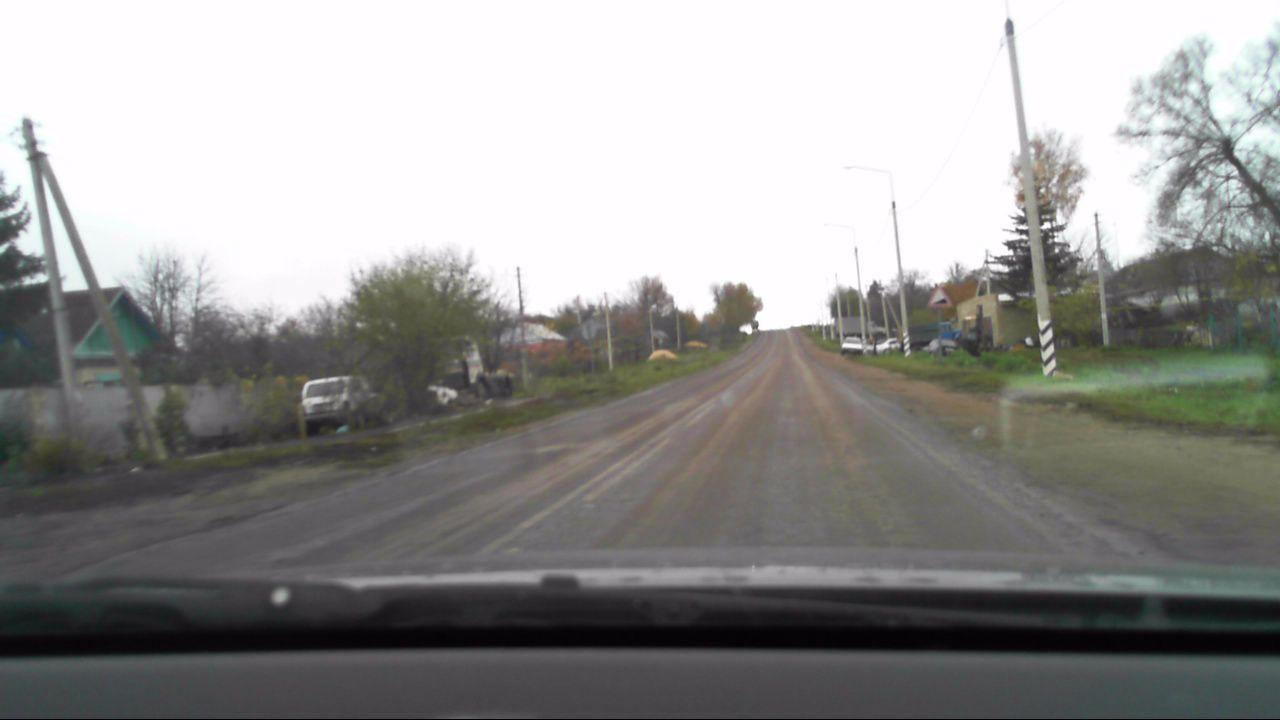1_14: (925, 287, 952, 311)
